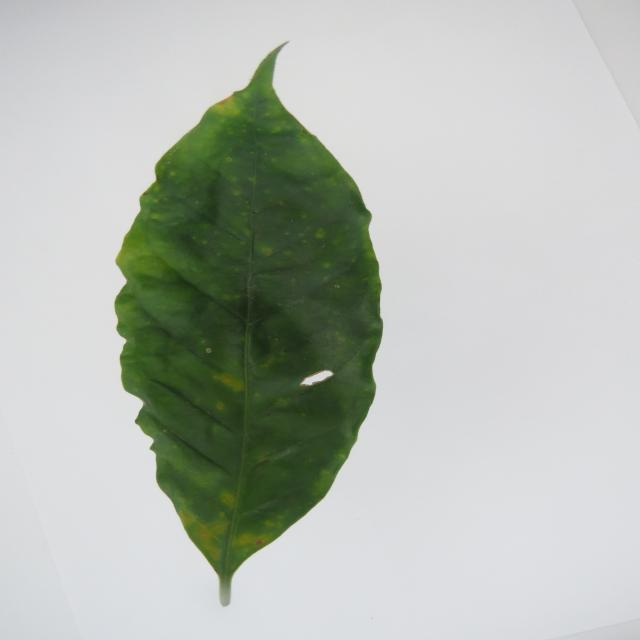DeficienciaNutricional-Calcio: (115, 46, 382, 605)
